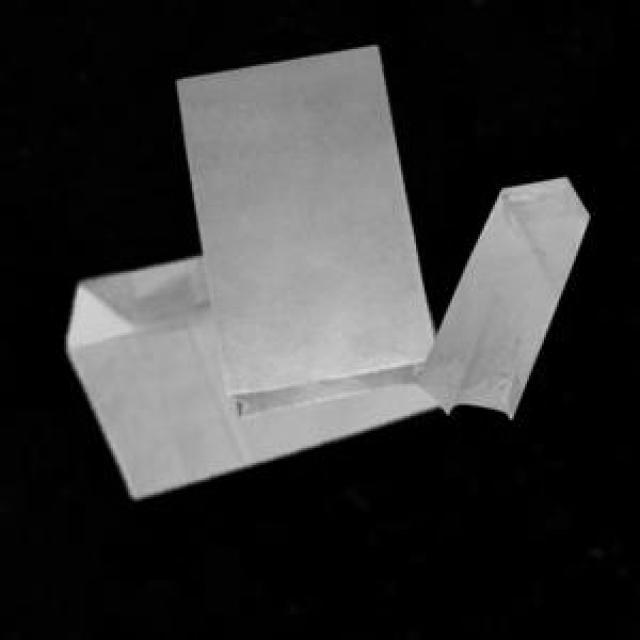paper: (173, 43, 429, 414), (64, 252, 435, 493)
